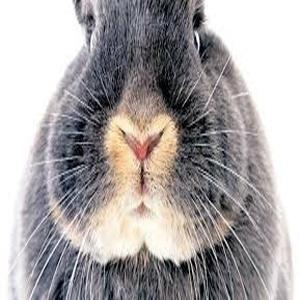rabbit: (7, 0, 290, 300)
